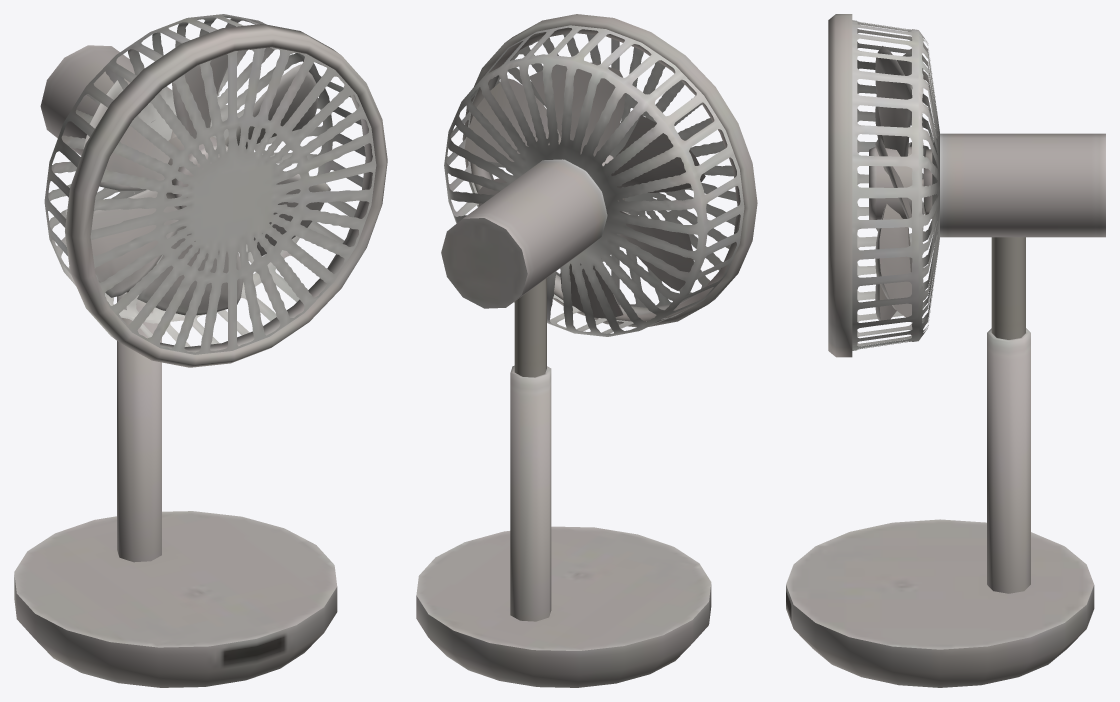
The picture shows the model from 3 angles, left to right: view 1: azimuth 30°, elevation 25°; view 2: azimuth 150°, elevation 25°; view 3: azimuth 270°, elevation 25°; orthographic projection. The views are drawn at different scales.
Bounding box in the file's own units: 6.1 × 11.76 × 5.66.
1 material, 1 textured.
